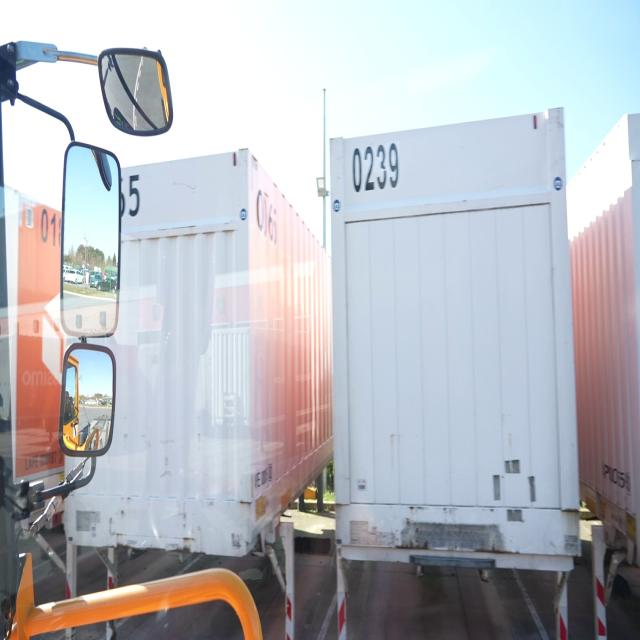Code: (347, 137, 406, 195)
